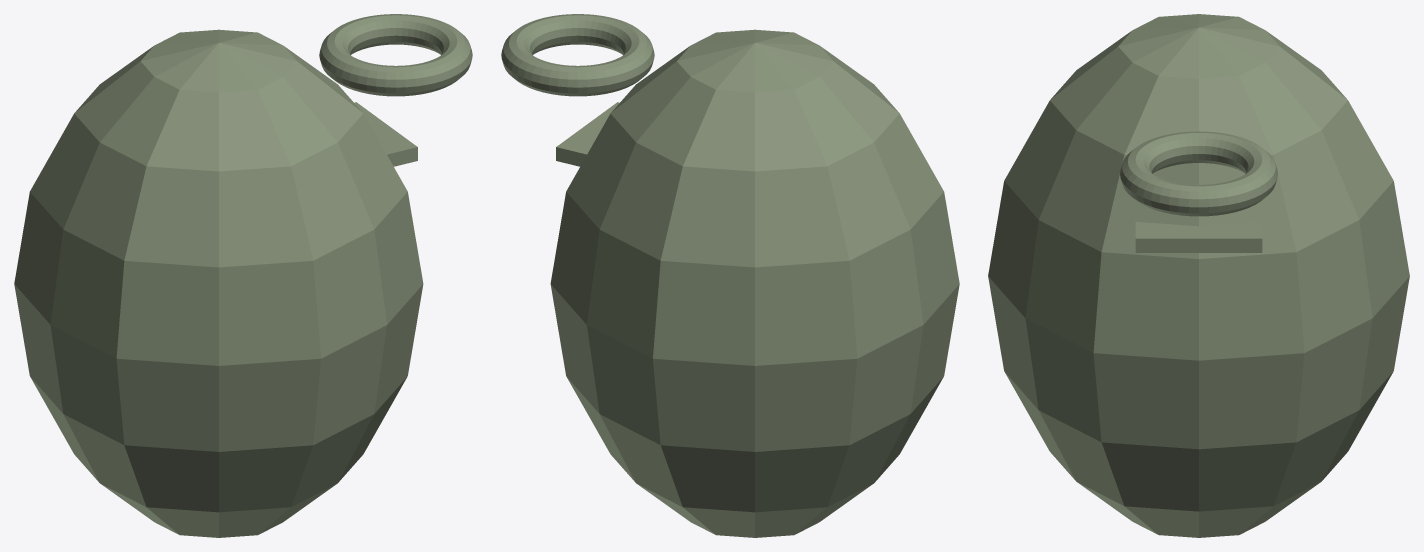
File: grenade_frag.glb
The picture shows the model from 3 angles, left to right: view 1: azimuth 30°, elevation 25°; view 2: azimuth 150°, elevation 25°; view 3: azimuth 270°, elevation 25°; orthographic projection. The views are drawn at different scales.
Parts seen in each view (by area): view 1: grenade_frag; view 2: grenade_frag; view 3: grenade_frag.
Part boxes in pixels (x1=…): grenade_frag: x1=14, y1=14, x2=472, y2=537; grenade_frag: x1=501, y1=14, x2=959, y2=537; grenade_frag: x1=988, y1=14, x2=1409, y2=537.
Size of the model in its own units: 0.093 by 0.104 by 0.08.
